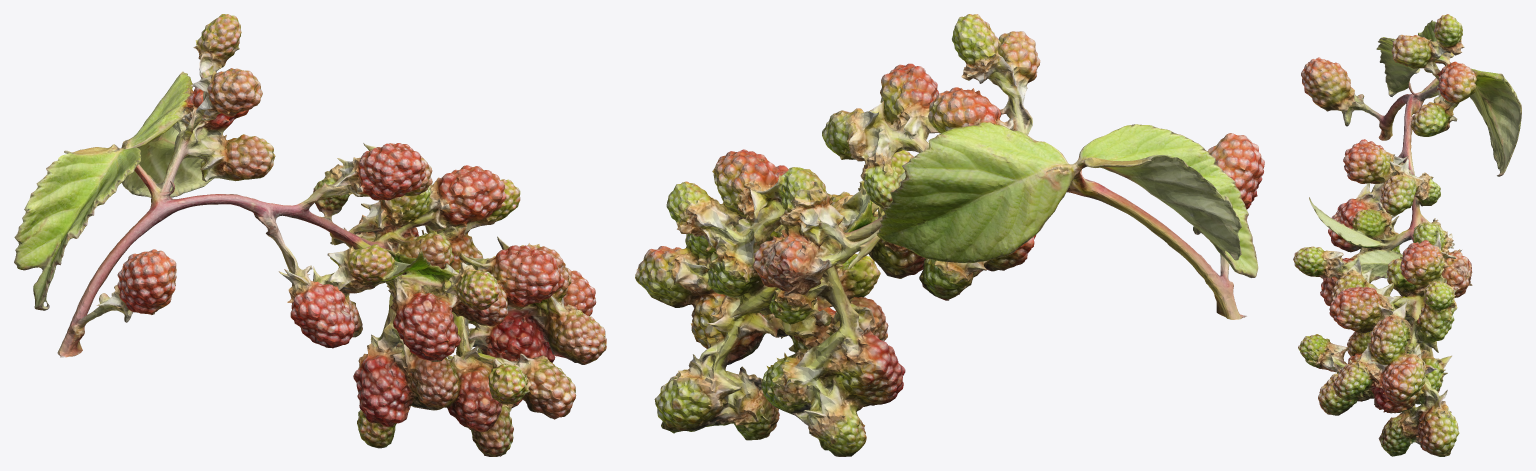
Rendered from blackberry-preview.glb.
3 renders of one model, left to right at view 1: azimuth 30°, elevation 25°; view 2: azimuth 150°, elevation 25°; view 3: azimuth 270°, elevation 25°, orthographic. The views are drawn at different scales.
Parts seen in each view (by area): view 1: ブラックベリーmodel; view 2: ブラックベリーmodel; view 3: ブラックベリーmodel.
Boxes of the visible parts, x1,y1,x2,y2 form: ブラックベリーmodel: [14, 14, 606, 456]; ブラックベリーmodel: [635, 14, 1264, 456]; ブラックベリーmodel: [1293, 14, 1521, 456].
Size of the model in its own units: 1.92 by 1.53 by 0.8997.
Materials: 1 (1 with a texture image).
